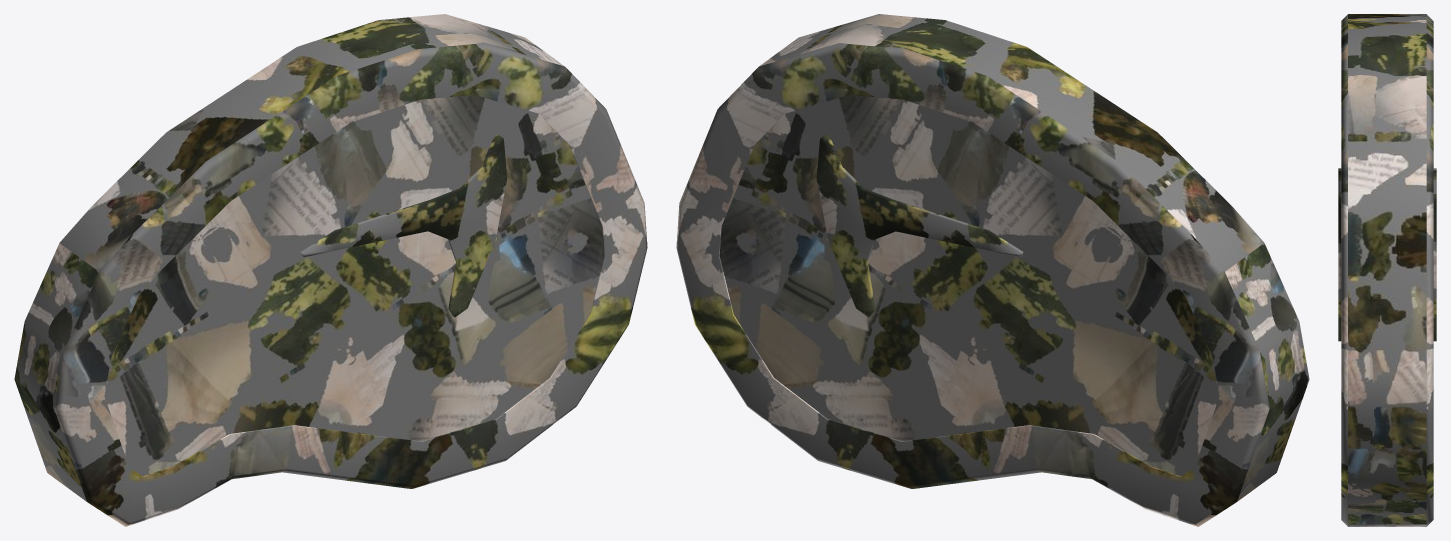
The picture shows the model from 3 angles, left to right: view 1: azimuth 30°, elevation 25°; view 2: azimuth 150°, elevation 25°; view 3: azimuth 270°, elevation 25°; orthographic projection.
Size of the model in its own units: 1 by 0.7061 by 0.1456.
